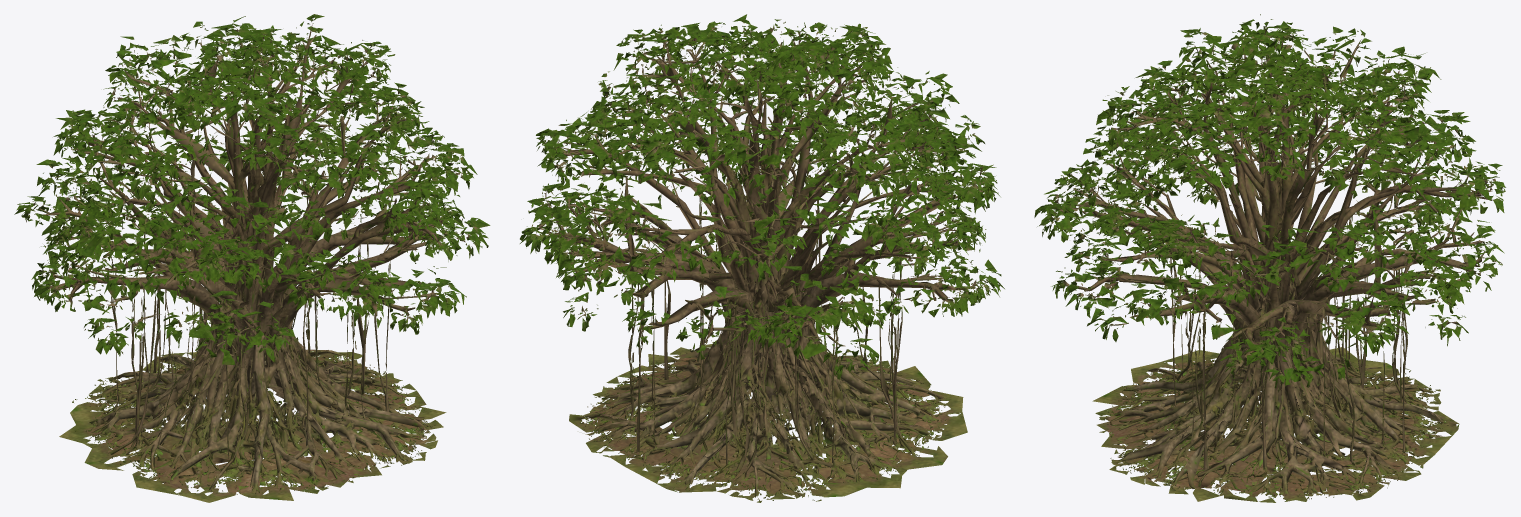
File: cothu.glb
3 views of the same model, side by side, from view 1: azimuth 30°, elevation 25°; view 2: azimuth 150°, elevation 25°; view 3: azimuth 270°, elevation 25° (orthographic). The views are drawn at different scales.
Parts seen in each view (by area): view 1: geometry_0; view 2: geometry_0; view 3: geometry_0.
Part boxes in pixels (bbox=[...]): geometry_0: bbox=[14, 14, 490, 502]; geometry_0: bbox=[520, 14, 1004, 502]; geometry_0: bbox=[1034, 14, 1505, 502].
Size of the model in its own units: 0.9878 by 0.8793 by 0.9733.
1 material, 1 textured.
